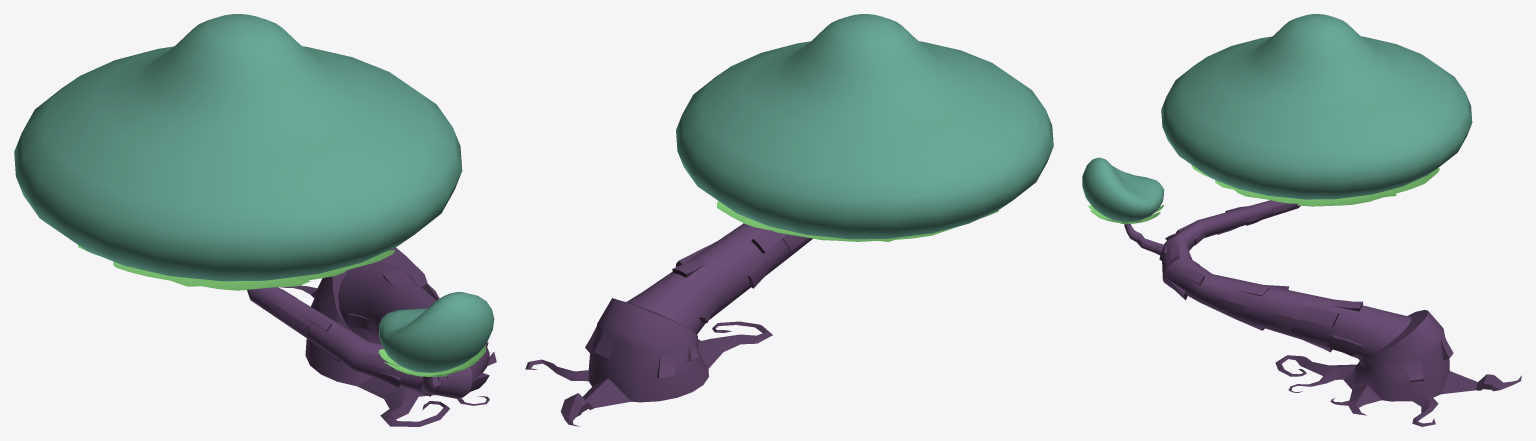
The model's file is boom_runner.fbx.
3 renders of one model, left to right at view 1: azimuth 30°, elevation 25°; view 2: azimuth 150°, elevation 25°; view 3: azimuth 270°, elevation 25°, orthographic. The views are drawn at different scales.
Visible parts, largest first — view 1: Sphere_10; view 2: Sphere_10; view 3: Sphere_10.
Part boxes in pixels (x1,y1,x2,y2): Sphere_10: (14, 14, 496, 426); Sphere_10: (525, 14, 1053, 426); Sphere_10: (1082, 14, 1521, 426).
Size of the model in its own units: 805 by 638 by 852.
